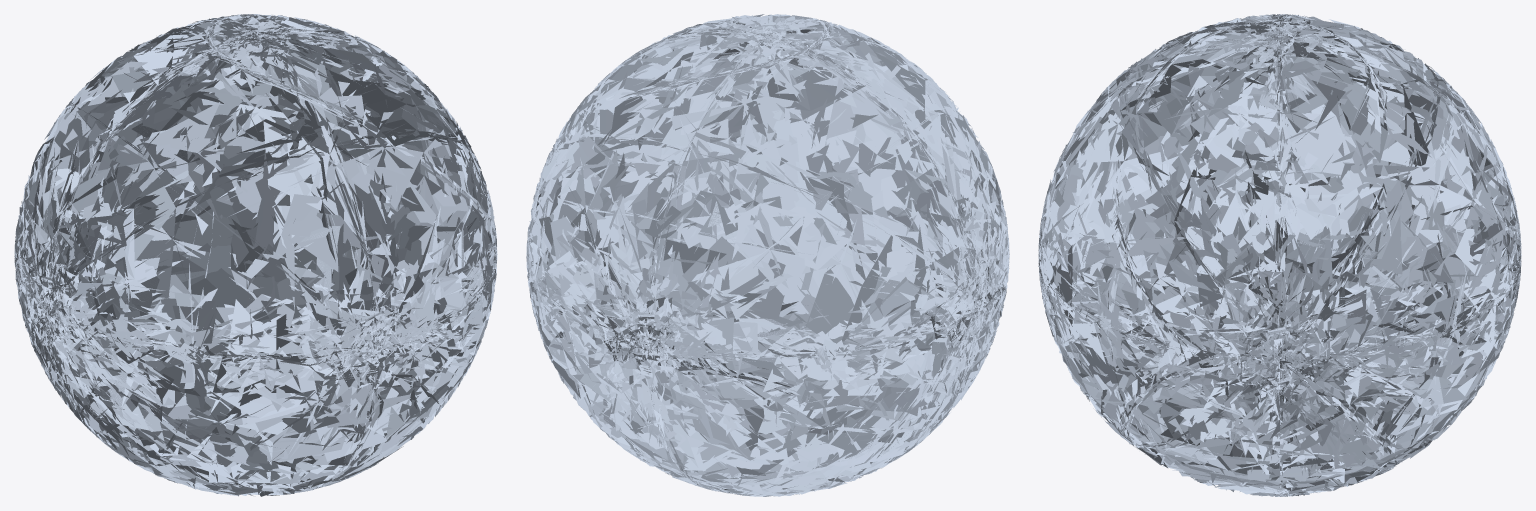
3 renders of one model, left to right at view 1: azimuth 30°, elevation 25°; view 2: azimuth 150°, elevation 25°; view 3: azimuth 270°, elevation 25°, orthographic.
Parts seen in each view (by area): view 1: 23-23-structural; view 2: 23-23-structural; view 3: 23-23-structural.
Part boxes in pixels (x1,y1,x2,y2): 23-23-structural: [14, 14, 497, 496]; 23-23-structural: [526, 14, 1009, 496]; 23-23-structural: [1038, 14, 1521, 496].
Bounding box in the file's own units: 2 × 2 × 2.
